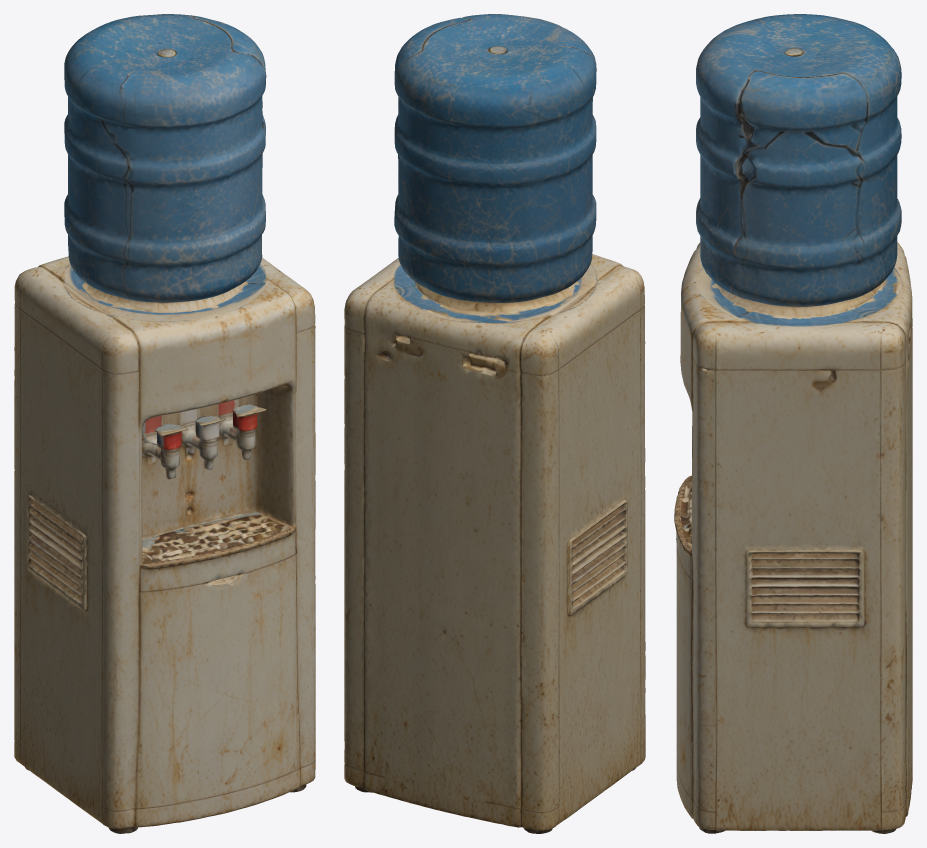
The model's file is WaterCooler.fbx.
3 views of the same model, side by side, from view 1: azimuth 30°, elevation 25°; view 2: azimuth 150°, elevation 25°; view 3: azimuth 270°, elevation 25° (orthographic).
Parts seen in each view (by area): view 1: texture_mapping; view 2: texture_mapping; view 3: texture_mapping.
Boxes of the visible parts, box(x1,y1,x2,y2) form: texture_mapping: box(14, 14, 315, 833); texture_mapping: box(344, 14, 645, 833); texture_mapping: box(674, 14, 912, 833).
Bounding box in the file's own units: 0.3075 × 0.291 × 0.9951.
1 material, 1 textured.
